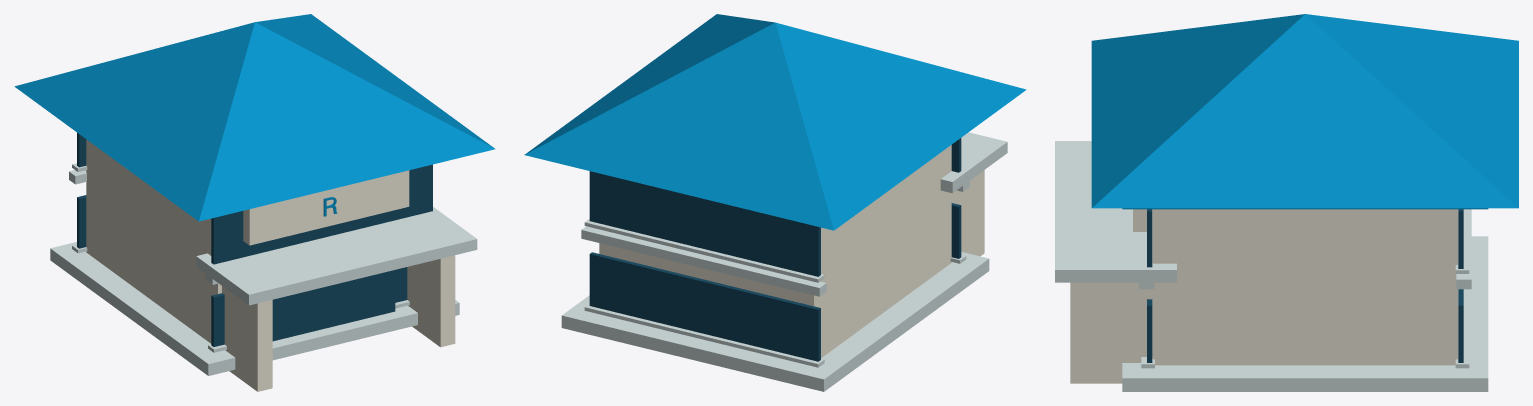
Rendered from pusat-ika.glb.
The picture shows the model from 3 angles, left to right: view 1: azimuth 30°, elevation 25°; view 2: azimuth 150°, elevation 25°; view 3: azimuth 270°, elevation 25°; orthographic projection. The views are drawn at different scales.
Parts seen in each view (by area): view 1: Pusat_IKA_blue, Pusat_IKA_ivory, Pusat_IKA_trim, Pusat_IKA_glass; view 2: Pusat_IKA_blue, Pusat_IKA_glass, Pusat_IKA_trim, Pusat_IKA_ivory; view 3: Pusat_IKA_blue, Pusat_IKA_ivory, Pusat_IKA_trim, Pusat_IKA_glass.
Part boxes in pixels (x1,y1,x2,y2): Pusat_IKA_blue: (14,14,495,221); Pusat_IKA_ivory: (86,139,455,391); Pusat_IKA_trim: (50,163,477,375); Pusat_IKA_glass: (77,132,432,346); Pusat_IKA_blue: (524,14,1026,230); Pusat_IKA_glass: (589,138,961,361); Pusat_IKA_trim: (561,132,1007,391); Pusat_IKA_ivory: (599,145,984,357); Pusat_IKA_blue: (1091,14,1518,209); Pusat_IKA_ivory: (1070,209,1457,383); Pusat_IKA_trim: (1055,141,1488,391); Pusat_IKA_glass: (1147,209,1463,362).
Bounding box in the file's own units: 13 × 11.35 × 15.2.
